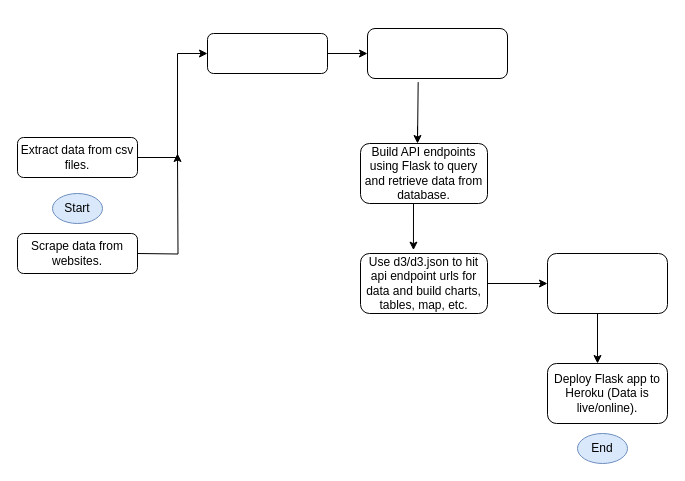
Image size: 685x481. Some labels were removed from this diagram. Each missing label, with the box of its shape:
Clean/Transform data using Pandas.: (206, 32, 328, 74)
Load data into MongoDB (local) or MongoDB Atlas (online): (366, 28, 508, 78)
Render charts/map data using Flask HTML templates.: (546, 252, 668, 314)
